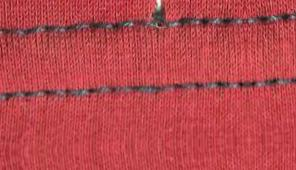hole: (151, 0, 169, 13)
